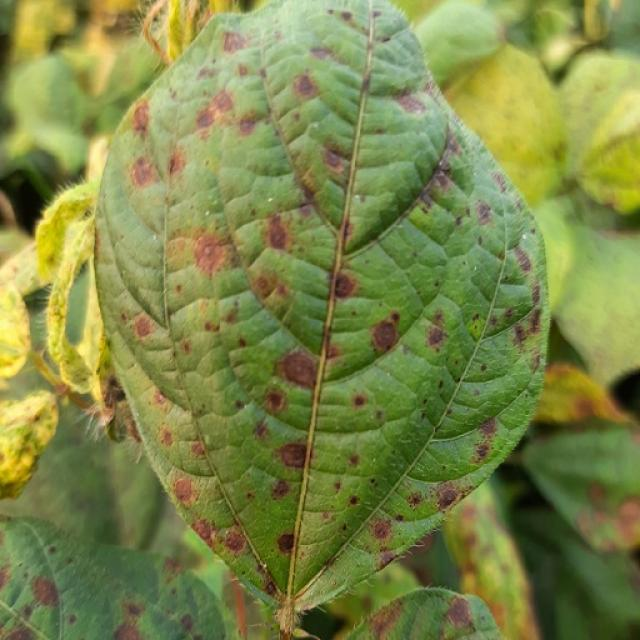Anthracnose: (357, 306, 407, 358), (192, 233, 234, 277), (280, 349, 319, 388), (250, 265, 288, 304), (366, 602, 407, 638), (201, 87, 237, 125), (114, 599, 148, 635), (613, 500, 640, 541), (443, 595, 473, 629), (130, 155, 158, 190), (32, 574, 60, 607), (276, 442, 308, 469), (267, 215, 290, 250), (332, 272, 357, 299), (132, 314, 157, 341), (131, 102, 152, 134), (172, 476, 195, 505), (221, 30, 248, 53), (513, 244, 533, 275), (223, 529, 247, 554), (322, 148, 346, 173), (294, 73, 317, 97), (264, 389, 287, 413), (370, 518, 393, 542), (191, 518, 214, 542), (426, 324, 447, 349), (436, 486, 459, 508), (162, 556, 183, 580), (467, 316, 486, 340), (276, 532, 296, 553), (270, 479, 291, 499), (475, 201, 493, 224), (338, 218, 353, 245), (196, 107, 215, 128), (513, 322, 530, 345), (0, 567, 13, 595), (253, 418, 270, 439), (378, 550, 397, 568), (109, 384, 125, 403), (179, 614, 194, 633), (168, 155, 181, 176), (474, 443, 490, 459), (408, 492, 422, 506), (264, 581, 276, 596), (353, 394, 366, 407), (349, 454, 360, 466), (66, 614, 77, 626), (341, 11, 352, 21), (349, 495, 359, 505), (48, 546, 56, 555), (66, 556, 74, 564)
Blackgram: (96, 0, 548, 606)
